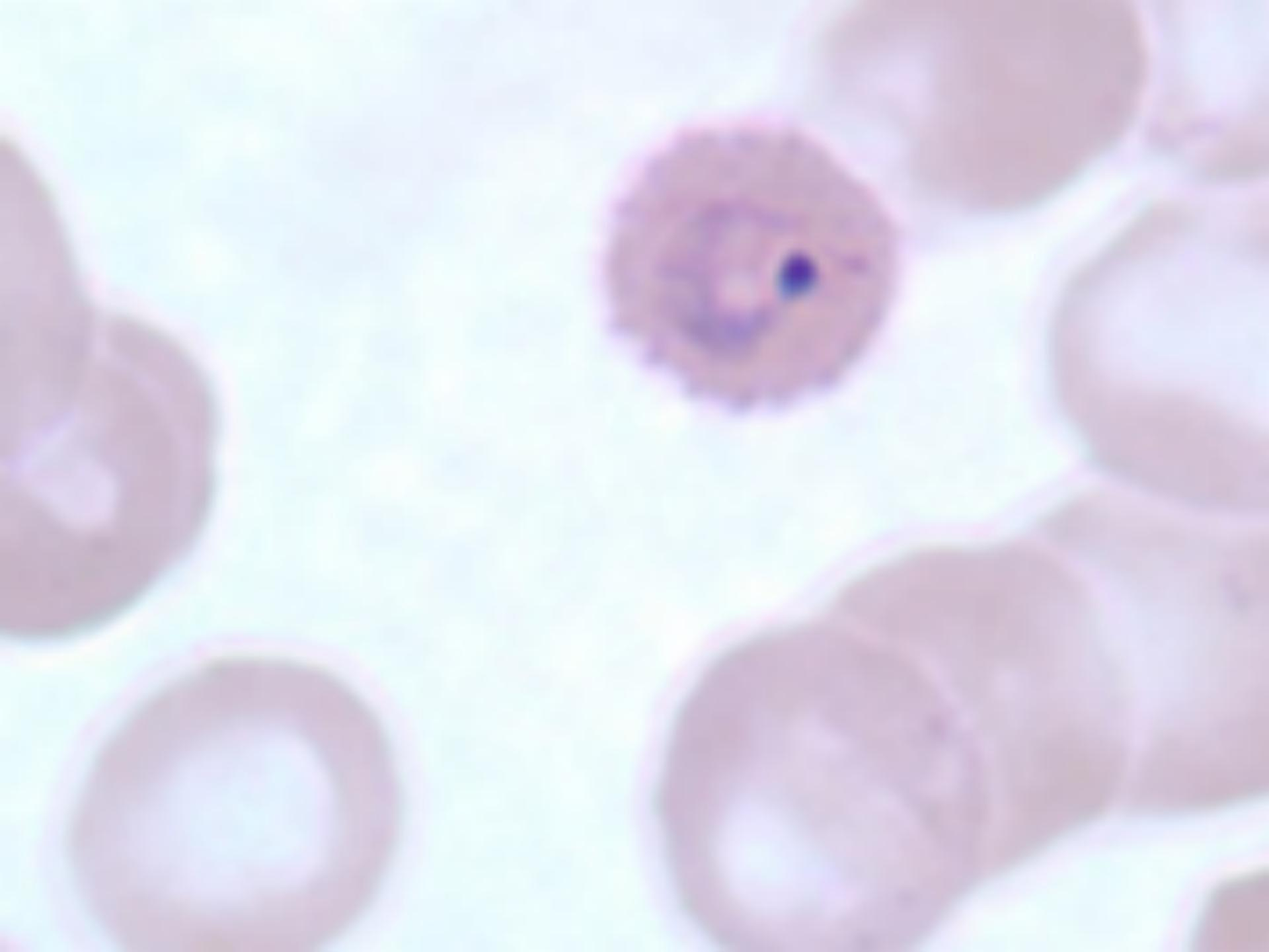Infected: (601, 128, 893, 412)
Uninfected: (58, 653, 408, 952), (661, 623, 978, 952), (815, 536, 1126, 842), (1008, 481, 1269, 815), (0, 300, 222, 645), (1048, 192, 1269, 522), (823, 4, 1147, 221)
